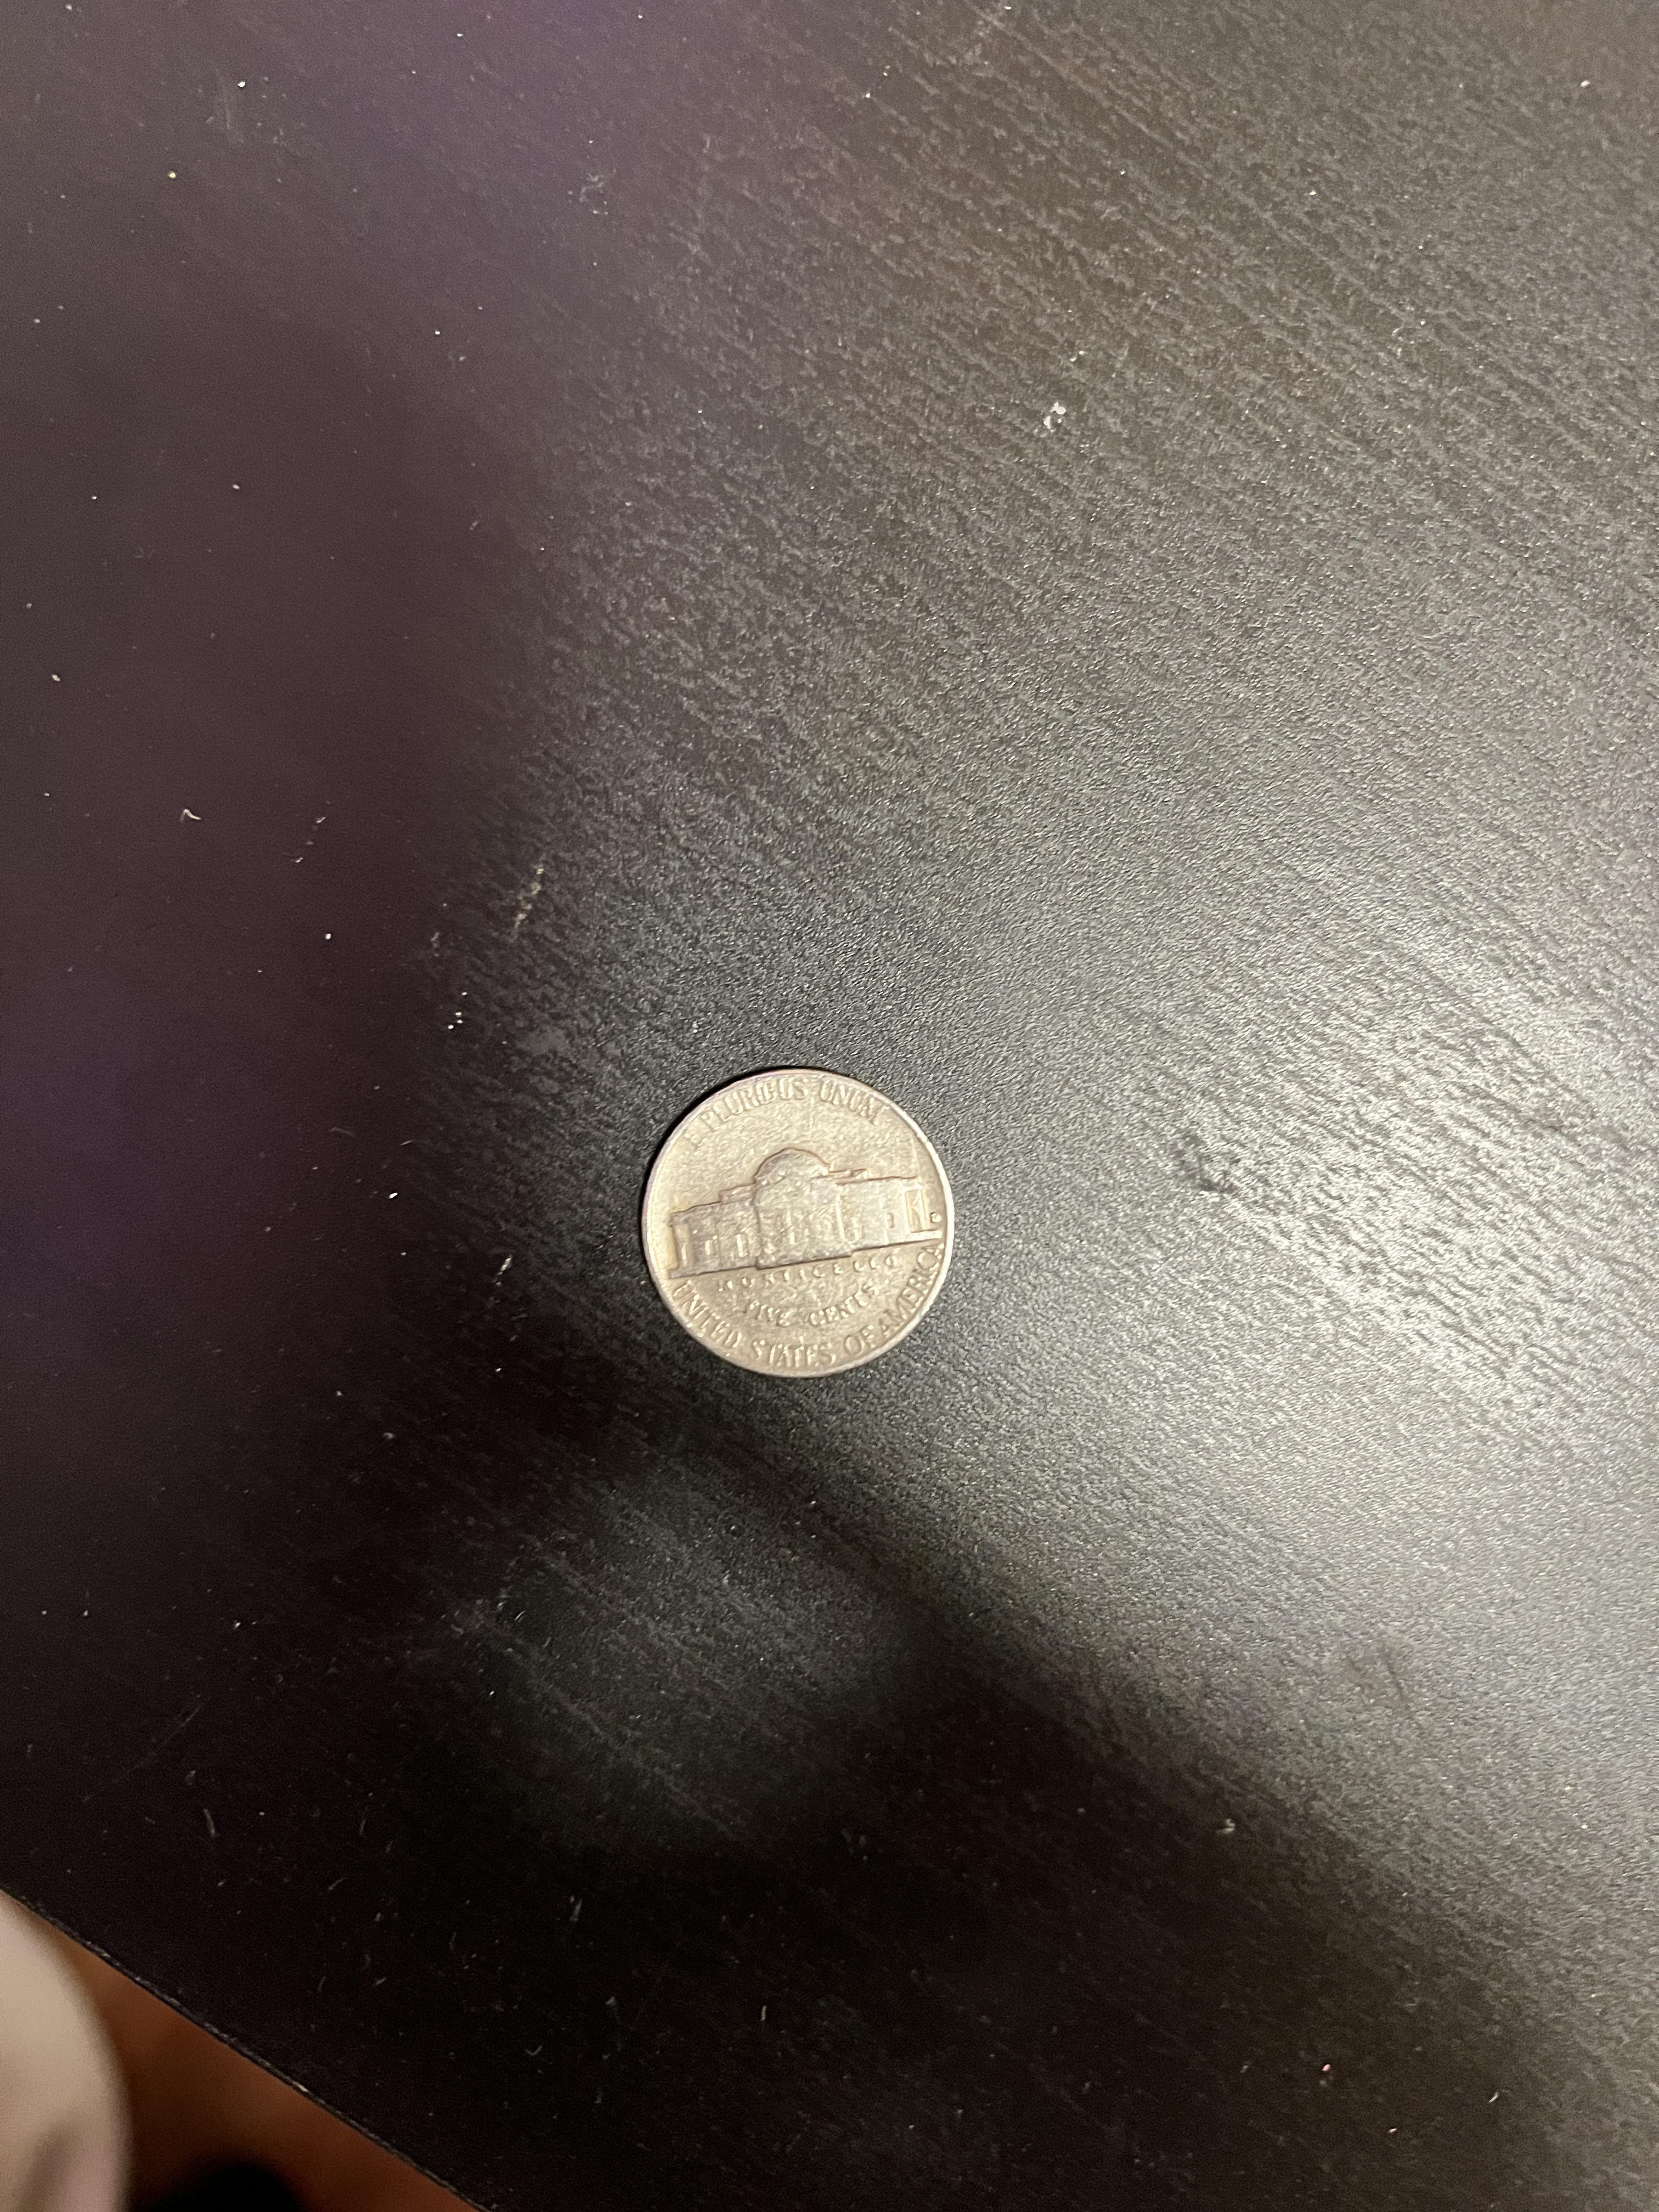Nickel: (636, 1054, 972, 1390)
